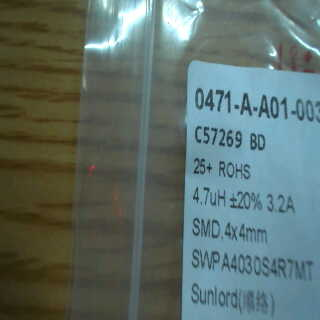4.7uH: (190, 183, 230, 211)
